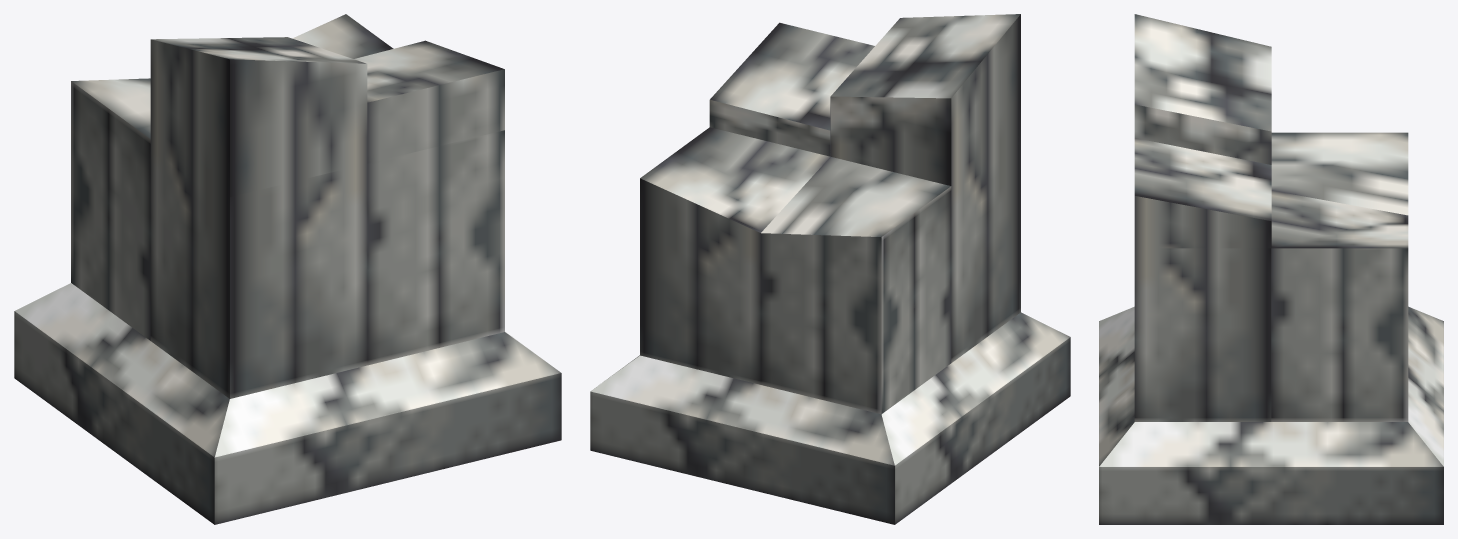
Rendered from Inside_Poly_Square_Pillar_02.obj.
3 views of the same model, side by side, from view 1: azimuth 30°, elevation 25°; view 2: azimuth 150°, elevation 25°; view 3: azimuth 270°, elevation 25° (orthographic). The views are drawn at different scales.
Parts seen in each view (by area): view 1: Cube.001; view 2: Cube.001; view 3: Cube.001.
Boxes of the visible parts, x1=… form: Cube.001: x1=14, y1=14, x2=561, y2=524; Cube.001: x1=590, y1=14, x2=1070, y2=524; Cube.001: x1=1099, y1=14, x2=1443, y2=524.
Bounding box in the file's own units: 1.06 × 1.29 × 1.06.
1 material, 1 textured.
